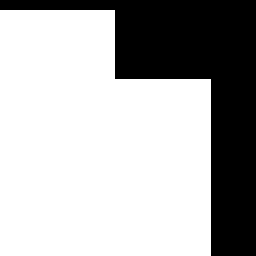rumex: (0, 79, 210, 256), (0, 10, 114, 78)
